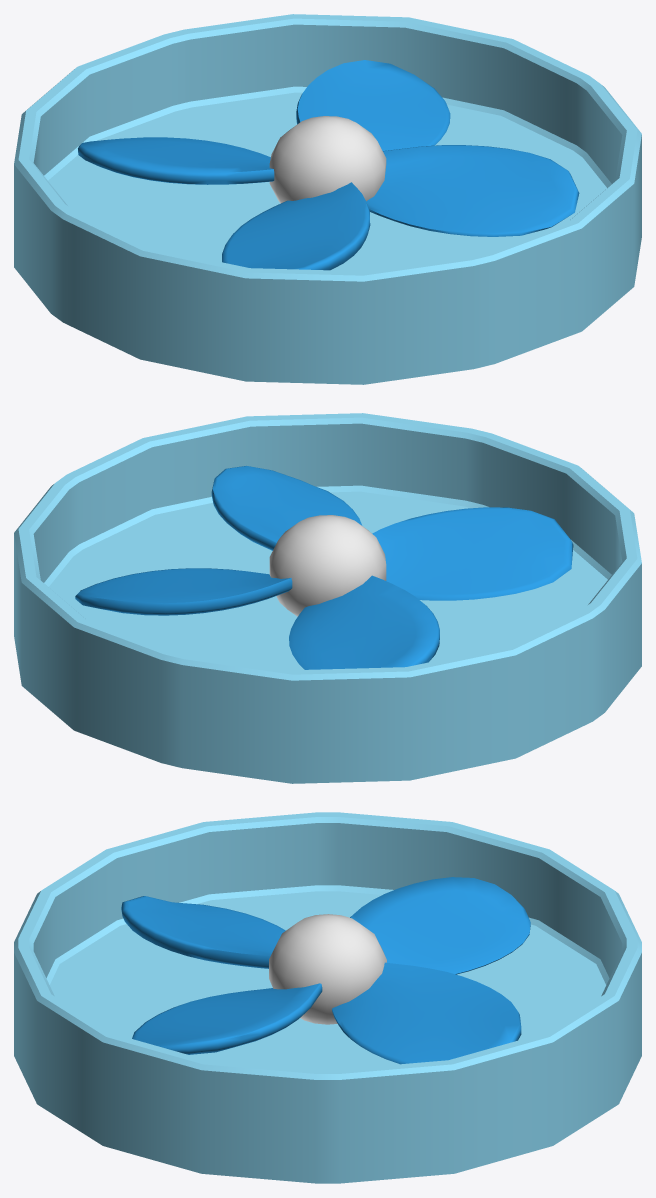
Rendered from propeller.fbx.
The picture shows the model from 3 angles, top to bottom: view 1: azimuth 30°, elevation 25°; view 2: azimuth 150°, elevation 25°; view 3: azimuth 270°, elevation 25°; orthographic projection.
Visible parts, largest first — view 1: propeller1, propeller; view 2: propeller1, propeller; view 3: propeller1, propeller.
Boxes of the visible parts, bbox=[...] form: propeller1: bbox=[14, 14, 641, 384]; propeller: bbox=[78, 60, 579, 270]; propeller1: bbox=[14, 413, 641, 783]; propeller: bbox=[75, 466, 573, 669]; propeller1: bbox=[14, 812, 641, 1183]; propeller: bbox=[121, 877, 530, 1064].
Bounding box in the file's own units: 153 × 35.21 × 153.
